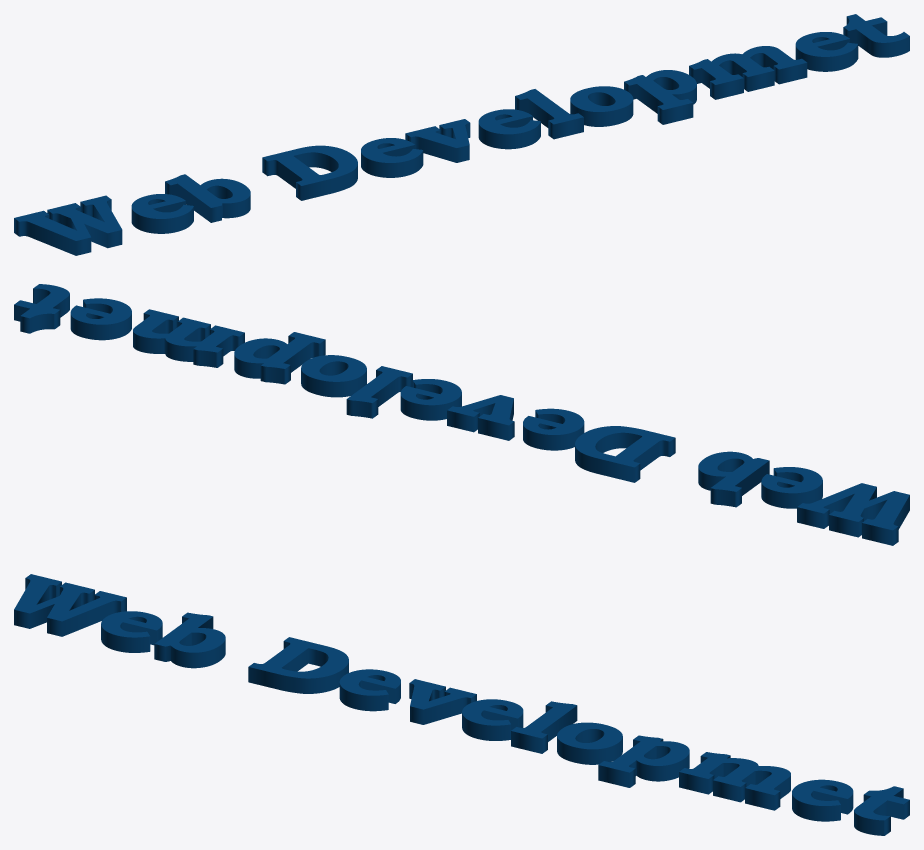
Rendered from web_development.fbx.
3 views of the same model, one above another, from view 1: azimuth 30°, elevation 25°; view 2: azimuth 150°, elevation 25°; view 3: azimuth 330°, elevation 25° (orthographic). The views are drawn at different scales.
Visible parts, largest first — view 1: Text; view 2: Text; view 3: Text.
Part boxes in pixels (bbox=[...]): Text: bbox=[14, 14, 909, 255]; Text: bbox=[14, 284, 909, 545]; Text: bbox=[14, 574, 909, 835].
Bounding box in the file's own units: 603 × 10 × 65.5.
